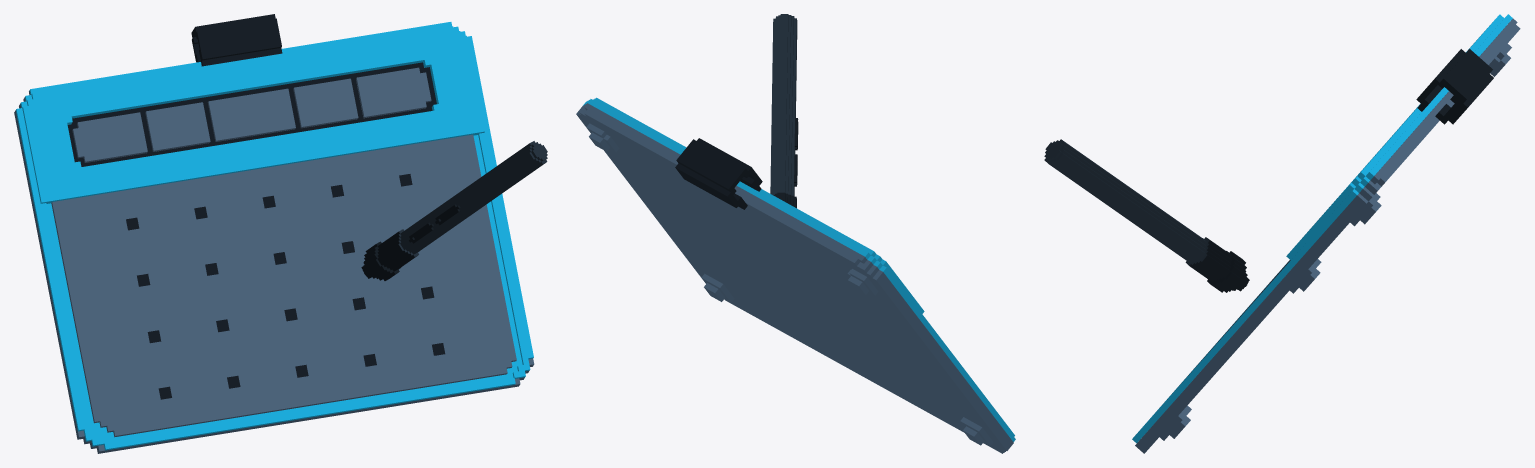
The model's file is home_tableta_01.gltf.
The picture shows the model from 3 angles, left to right: view 1: azimuth 30°, elevation 25°; view 2: azimuth 150°, elevation 25°; view 3: azimuth 270°, elevation 25°; orthographic projection. The views are drawn at different scales.
Visible parts, largest first — view 1: tabletavsvoc-0-tabletaobj, LAPIXVOX-0-lapiz; view 2: tabletavsvoc-0-tabletaobj, LAPIXVOX-0-lapiz; view 3: tabletavsvoc-0-tabletaobj, LAPIXVOX-0-lapiz.
Part boxes in pixels (box(x1,y1,x2,y2)): tabletavsvoc-0-tabletaobj: box(14, 14, 534, 453); LAPIXVOX-0-lapiz: box(361, 141, 547, 280); tabletavsvoc-0-tabletaobj: box(576, 97, 1015, 453); LAPIXVOX-0-lapiz: box(770, 14, 798, 208); tabletavsvoc-0-tabletaobj: box(1132, 14, 1520, 453); LAPIXVOX-0-lapiz: box(1044, 139, 1249, 292).
Size of the model in its own units: 8.42 by 6.12 by 7.55.
